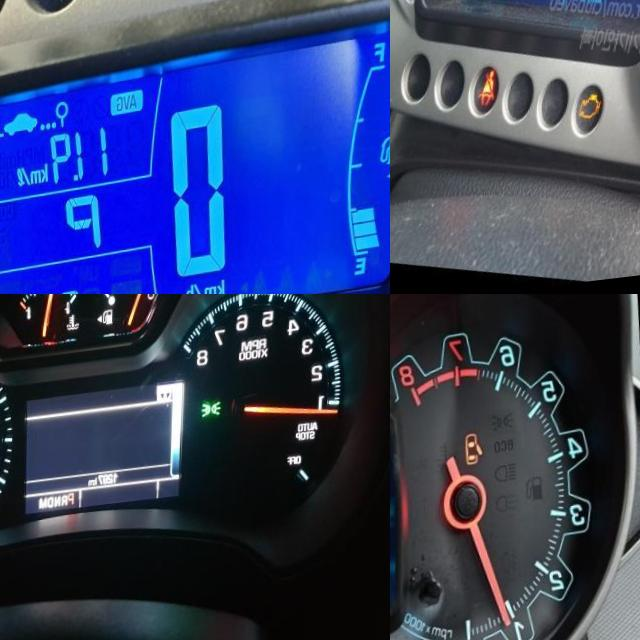Doors: (467, 440, 489, 477)
SideLamp: (205, 409, 225, 427)
